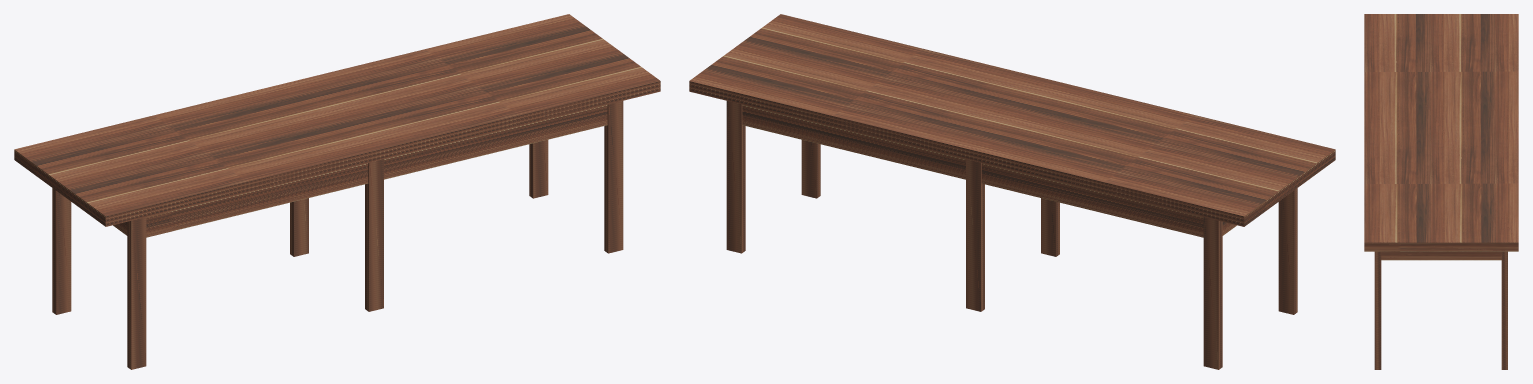
The model's file is dining_table.fbx.
The picture shows the model from 3 angles, left to right: view 1: azimuth 30°, elevation 25°; view 2: azimuth 150°, elevation 25°; view 3: azimuth 270°, elevation 25°; orthographic projection. The views are drawn at different scales.
Visible parts, largest first — view 1: table; view 2: table; view 3: table.
Boxes of the visible parts, x1=… form: table: x1=14, y1=14, x2=660, y2=369; table: x1=689, y1=14, x2=1335, y2=369; table: x1=1364, y1=14, x2=1518, y2=369.
Size of the model in its own units: 280 by 80 by 80.
